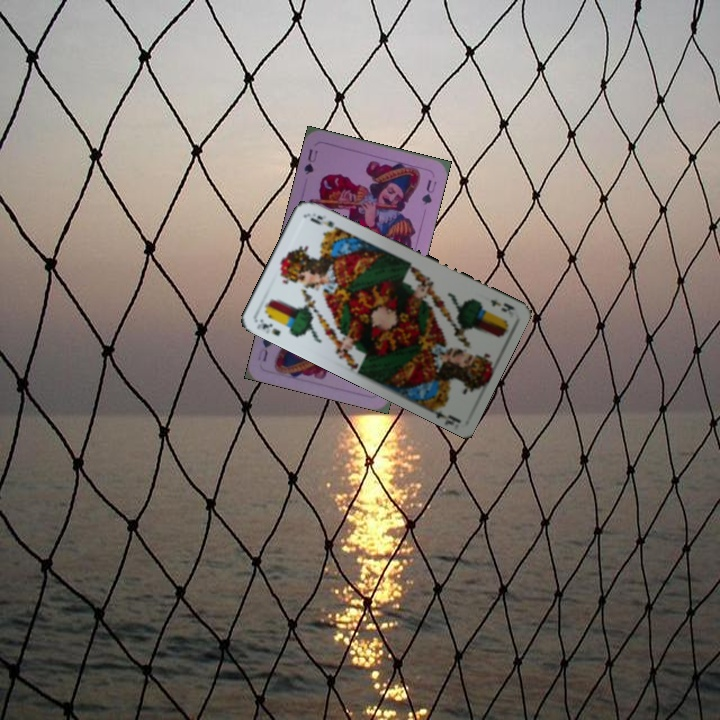EK: (252, 315, 283, 338), (486, 295, 517, 315)
GU: (300, 145, 321, 177)
